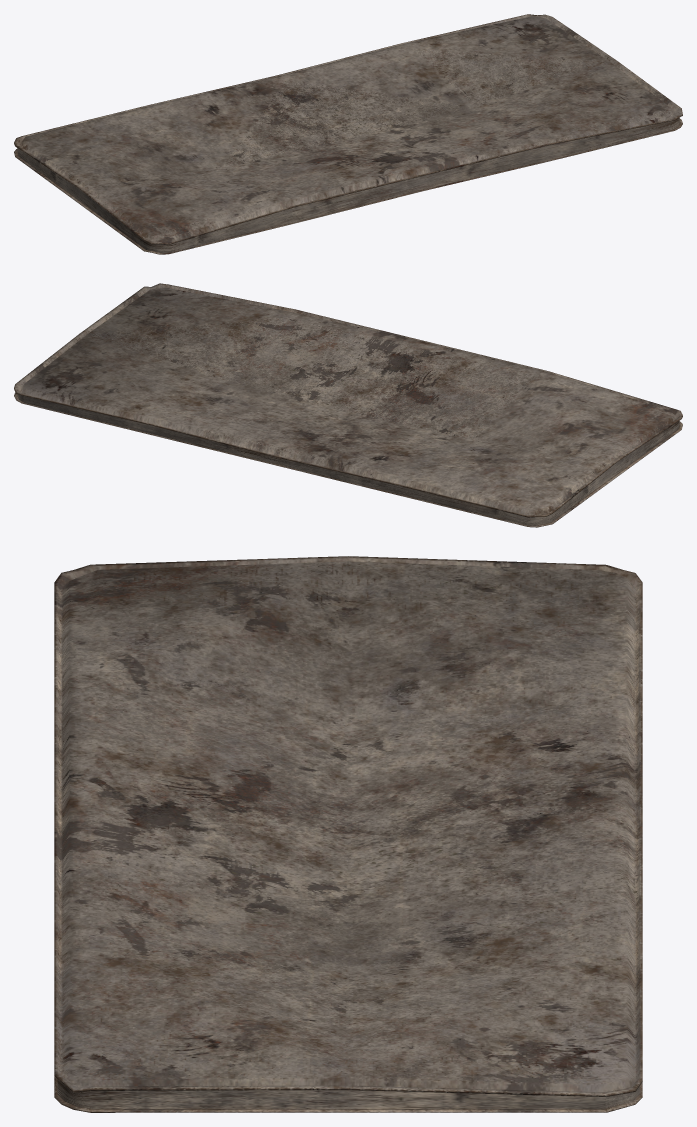
The model's file is spawnbag.obj.
3 renders of one model, top to bottom at view 1: azimuth 30°, elevation 25°; view 2: azimuth 150°, elevation 25°; view 3: azimuth 270°, elevation 25°, orthographic. The views are drawn at different scales.
Visible parts, largest first — view 1: matrac; view 2: matrac; view 3: matrac.
Boxes of the visible parts, x1=… form: matrac: x1=14, y1=14, x2=682, y2=254; matrac: x1=14, y1=283, x2=682, y2=527; matrac: x1=54, y1=556, x2=642, y2=1112.
Size of the model in its own units: 11.81 by 0.4671 by 5.59.
